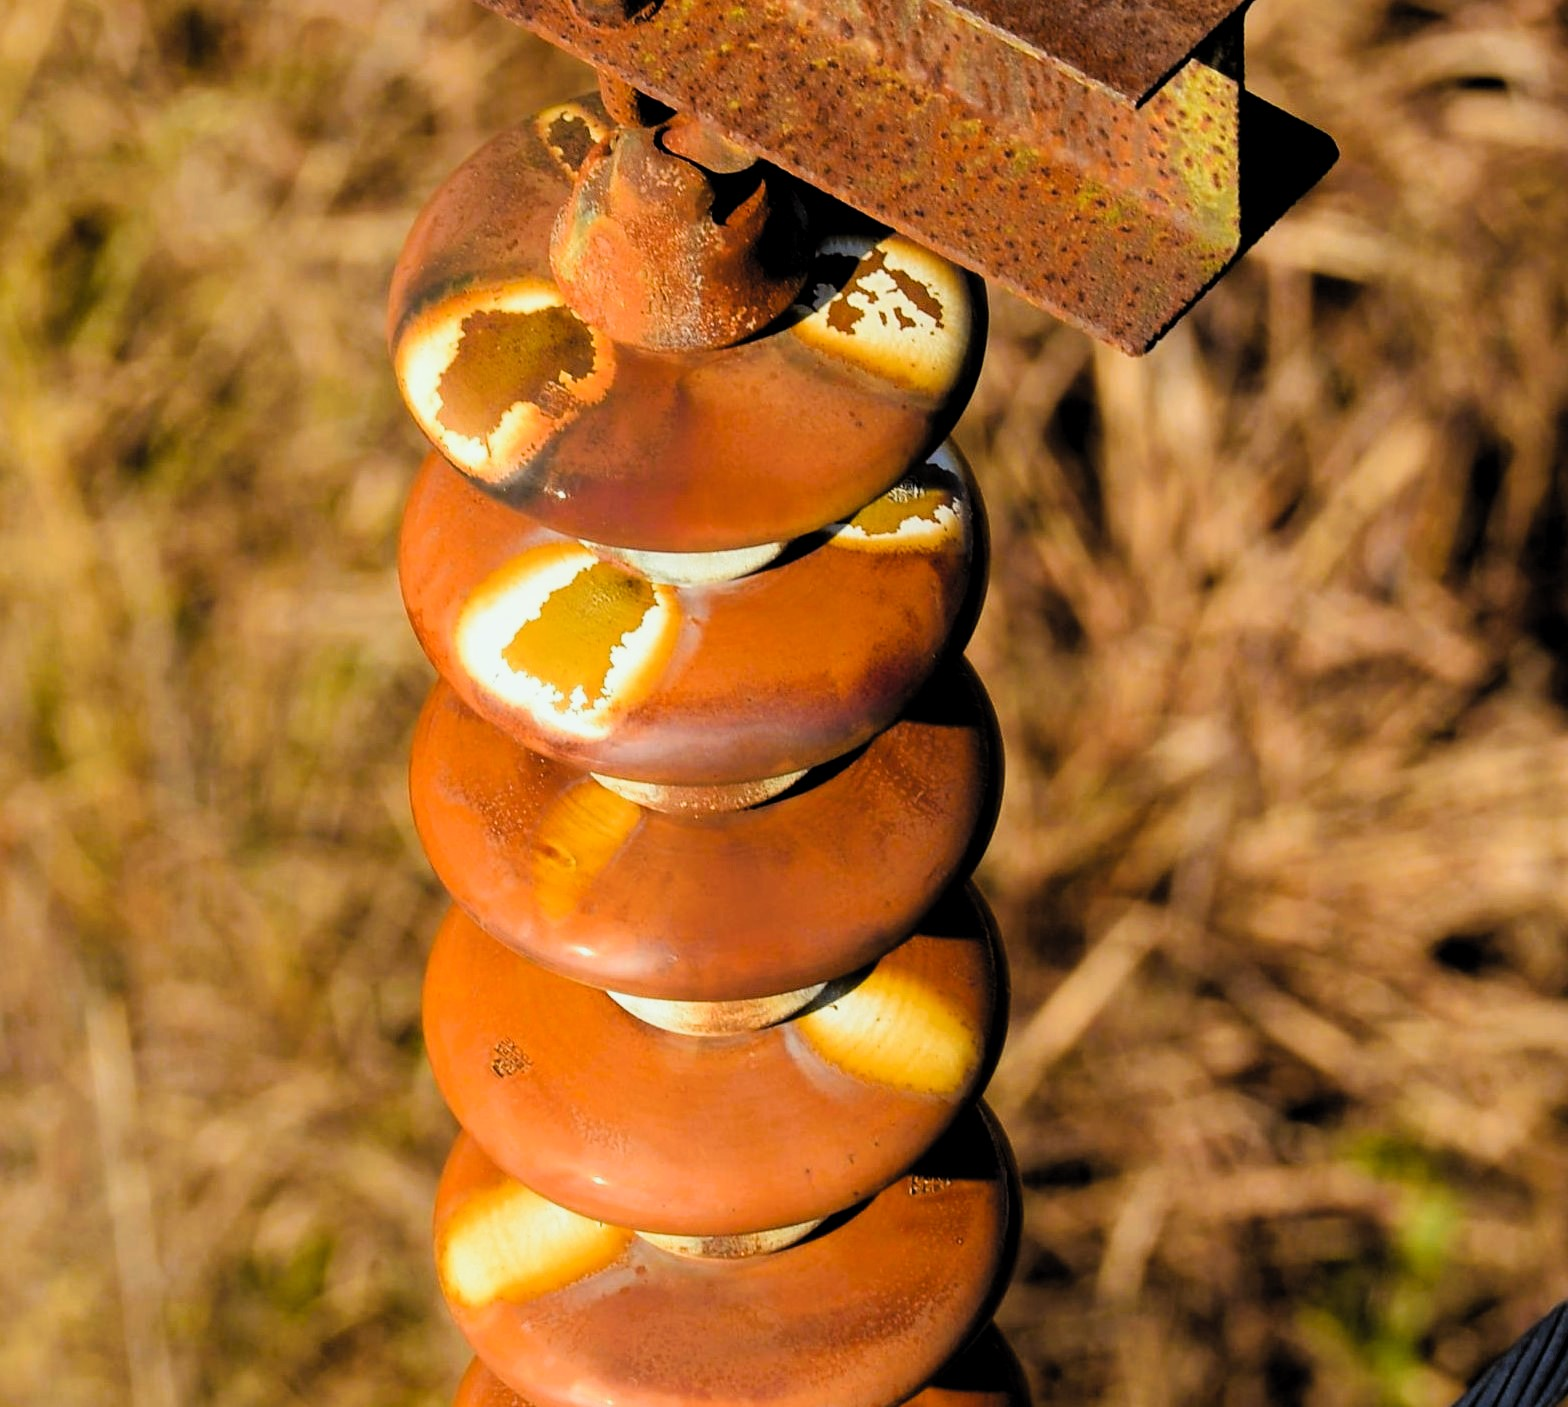Insulator flashover: (343, 95, 1024, 788), (388, 902, 1015, 1406)
